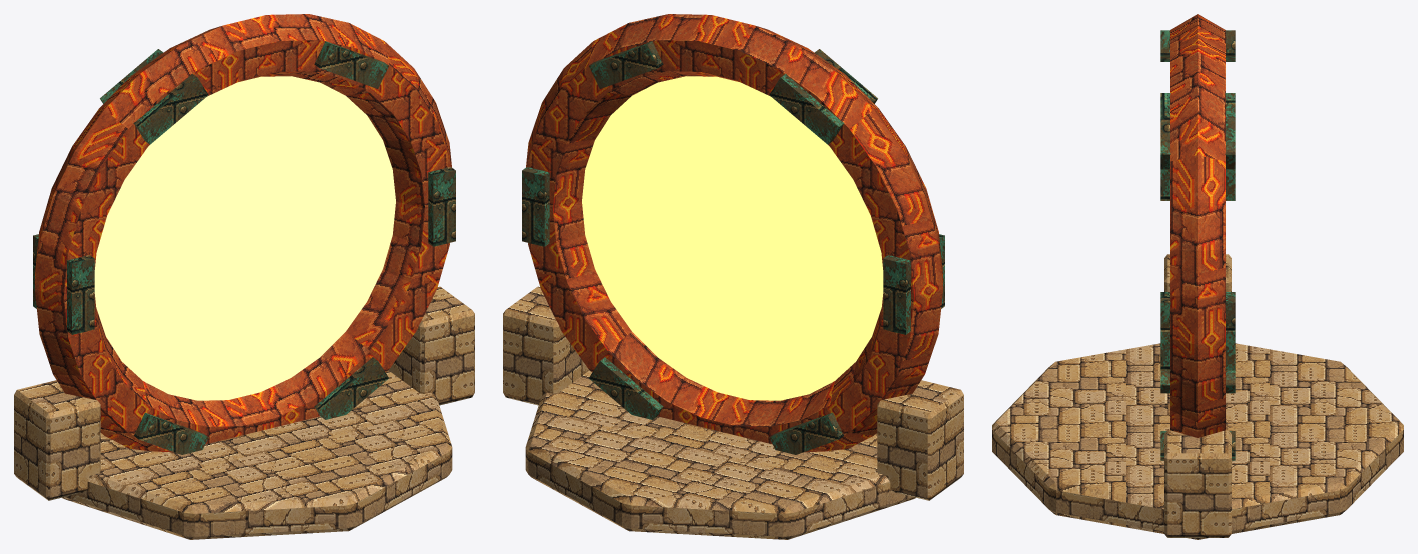
Rendered from ruin_portal.glb.
3 views of the same model, side by side, from view 1: azimuth 30°, elevation 25°; view 2: azimuth 150°, elevation 25°; view 3: azimuth 270°, elevation 25° (orthographic). The views are drawn at different scales.
Visible parts, largest first — view 1: Disc, Ring, Base, Foot-1, Foot1, Band2, Band3, Band0, Band5, Band1, Band4; view 2: Disc, Ring, Base, Foot-1, Foot1, Band2, Band3, Band0, Band5, Band1, Band4; view 3: Base, Ring, Foot1, Band0, Band1, Band2, Band3.
Part boxes in pixels (x1,y1,x2,y2): Disc: [94, 76, 395, 400]; Ring: [35, 14, 451, 452]; Base: [62, 370, 452, 539]; Foot-1: [14, 380, 100, 500]; Foot1: [388, 286, 474, 405]; Band2: [100, 49, 208, 144]; Band3: [33, 234, 94, 334]; Band0: [428, 167, 455, 246]; Band5: [314, 357, 389, 419]; Band1: [314, 41, 388, 88]; Band4: [134, 412, 208, 454]; Disc: [582, 76, 883, 400]; Ring: [526, 14, 942, 452]; Base: [525, 370, 915, 539]; Foot-1: [877, 380, 963, 500]; Foot1: [503, 286, 589, 405]; Band2: [769, 49, 877, 144]; Band3: [883, 234, 944, 334]; Band0: [522, 167, 549, 246]; Band5: [588, 357, 663, 419]; Band1: [589, 41, 663, 88]; Band4: [769, 412, 843, 454]; Base: [992, 343, 1403, 539]; Ring: [1170, 14, 1225, 437]; Foot1: [1164, 430, 1231, 537]; Band0: [1160, 292, 1235, 370]; Band1: [1160, 93, 1235, 169]; Band2: [1160, 30, 1235, 61]; Band3: [1160, 169, 1235, 200].
Size of the model in its own units: 6.65 by 6.46 by 5.74.
Materials: 4 (3 with a texture image).
